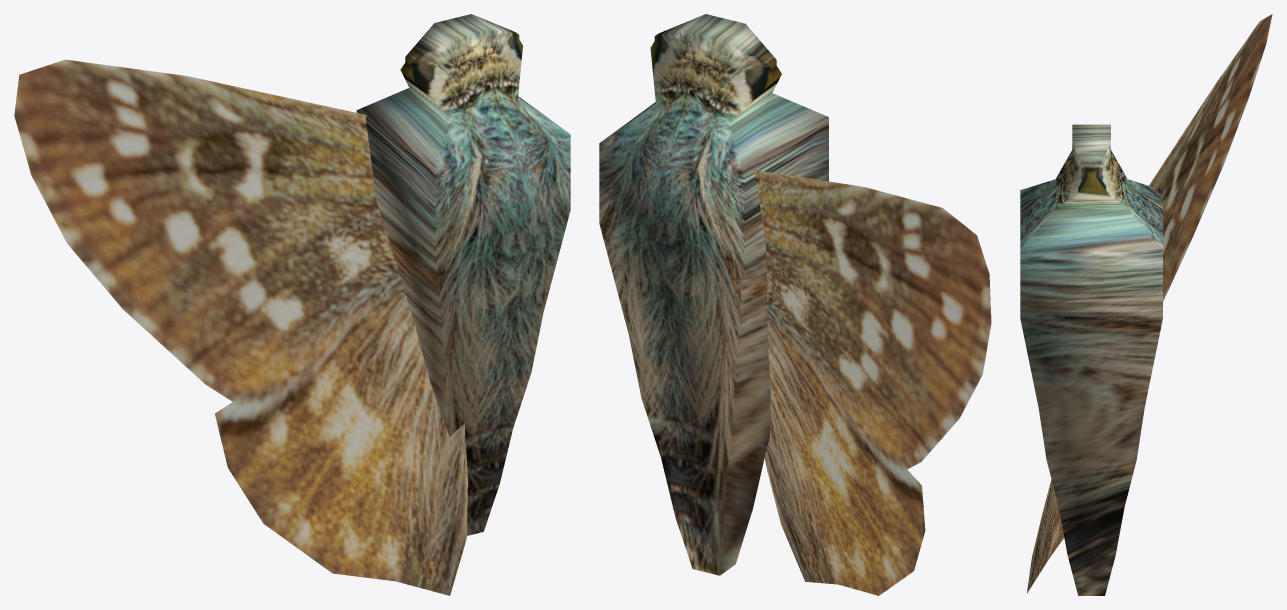
The model's file is moth2.gltf.
3 views of the same model, side by side, from view 1: azimuth 30°, elevation 25°; view 2: azimuth 150°, elevation 25°; view 3: azimuth 270°, elevation 25° (orthographic). The views are drawn at different scales.
Parts seen in each view (by area): view 1: Plane; view 2: Plane; view 3: Plane.
Part boxes in pixels (x1,y1,x2,y2): Plane: [14, 14, 570, 595]; Plane: [599, 14, 991, 595]; Plane: [1020, 14, 1272, 595].
Bounding box in the file's own units: 1.54 × 1.86 × 0.8791.
Materials: 1 (1 with a texture image).
